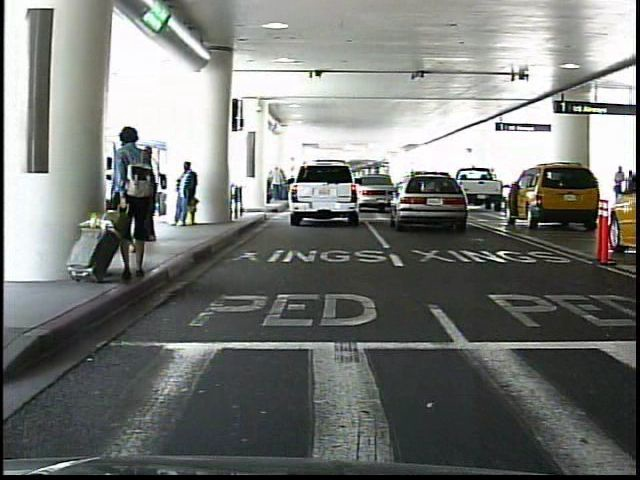person: (112, 124, 163, 284), (137, 145, 165, 239), (174, 158, 201, 229), (611, 163, 626, 214), (626, 165, 638, 214)
